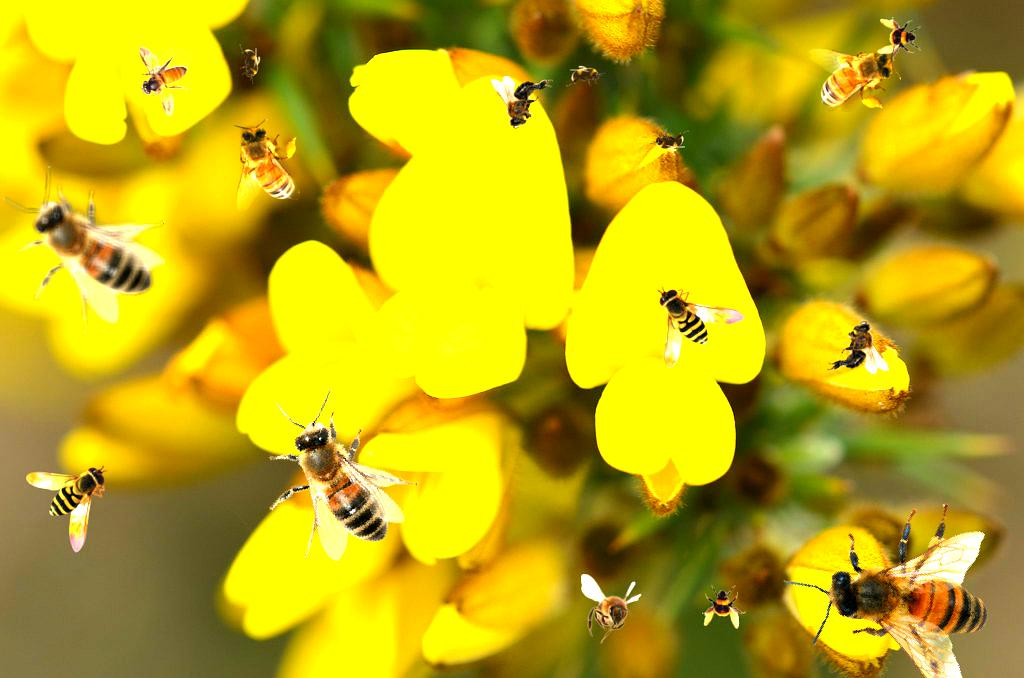Bee: (763, 454, 1024, 678), (227, 373, 440, 587), (3, 166, 165, 333), (657, 286, 745, 368), (26, 465, 108, 553), (808, 44, 901, 112), (232, 119, 300, 212), (581, 574, 642, 644), (138, 46, 188, 117), (827, 321, 889, 374), (491, 76, 553, 129), (877, 17, 921, 61), (702, 585, 746, 629), (566, 65, 606, 87), (239, 44, 261, 84), (649, 130, 689, 152)
